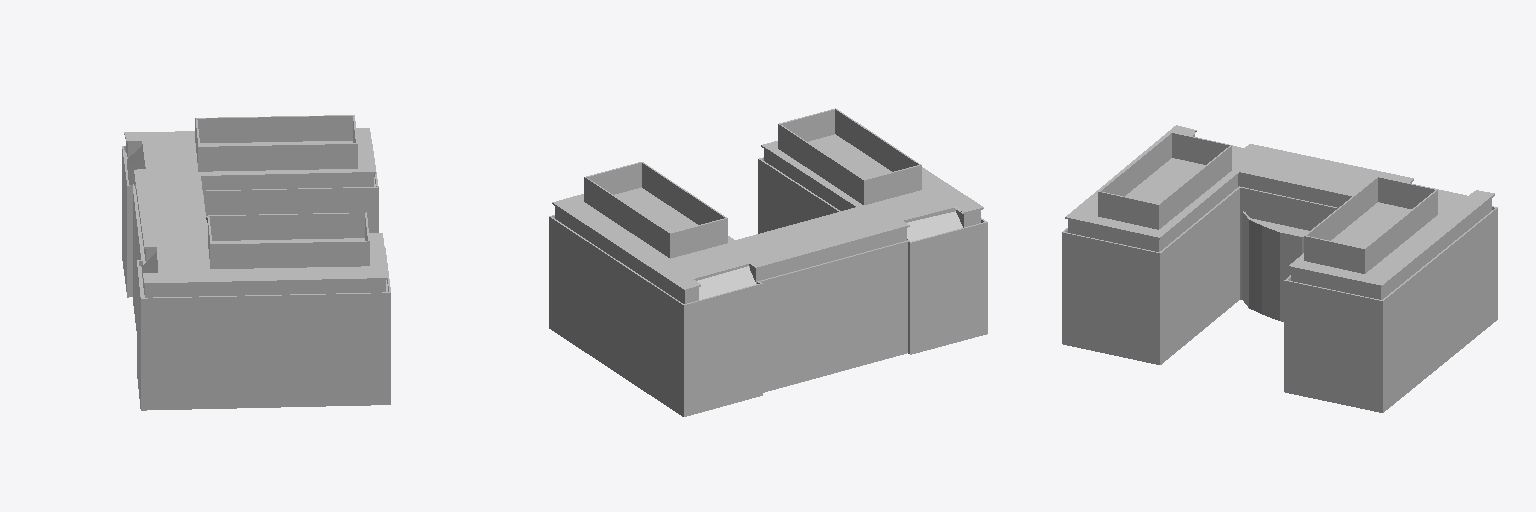
The model's file is lab_5.obj.
3 renders of one model, left to right at view 1: azimuth 30°, elevation 25°; view 2: azimuth 150°, elevation 25°; view 3: azimuth 270°, elevation 25°, orthographic.
Visible parts, largest first — view 1: object_1; view 2: object_1; view 3: object_1.
Boxes of the visible parts, x1,y1,x2,y2 form: object_1: [122, 115, 390, 410]; object_1: [549, 108, 987, 416]; object_1: [1062, 125, 1497, 412].
Bounding box in the file's own units: 197 × 85 × 222.